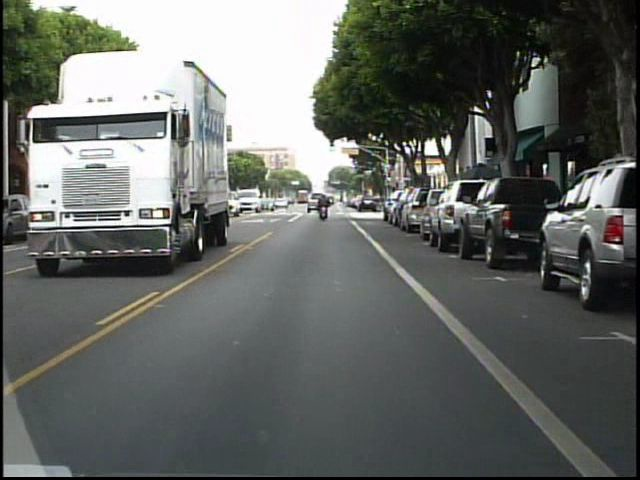person: (318, 192, 332, 223)
